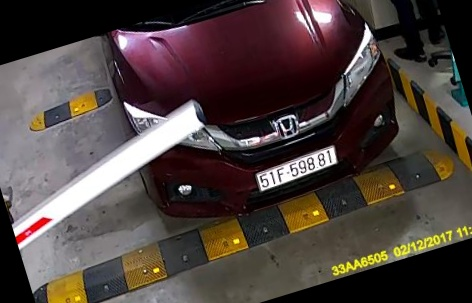plate: (249, 148, 346, 190)
